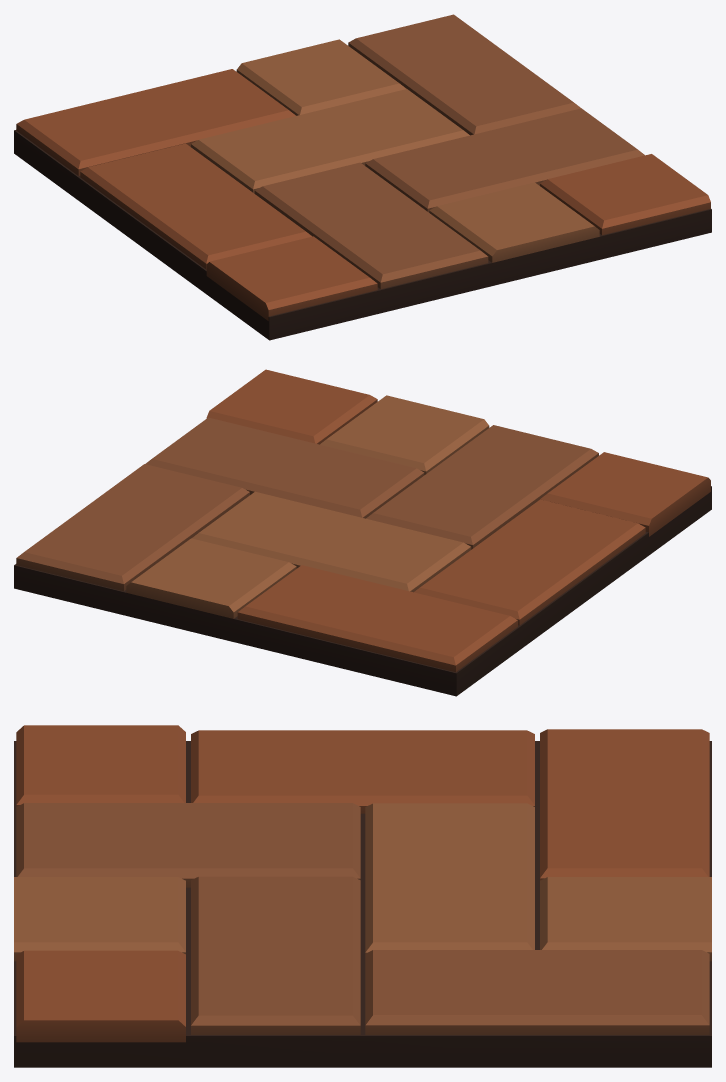
File: floor_parquet_small_B.glb
The picture shows the model from 3 angles, top to bottom: view 1: azimuth 30°, elevation 25°; view 2: azimuth 150°, elevation 25°; view 3: azimuth 270°, elevation 25°; orthographic projection. The views are drawn at different scales.
Parts seen in each view (by area): view 1: Item; view 2: Item; view 3: Item.
Part boxes in pixels (x1,y1,x2,y2): Item: [14, 14, 711, 340]; Item: [14, 369, 711, 696]; Item: [14, 725, 711, 1067].
Size of the model in its own units: 2 by 0.1526 by 2.
Materials: 1 (1 with a texture image).
